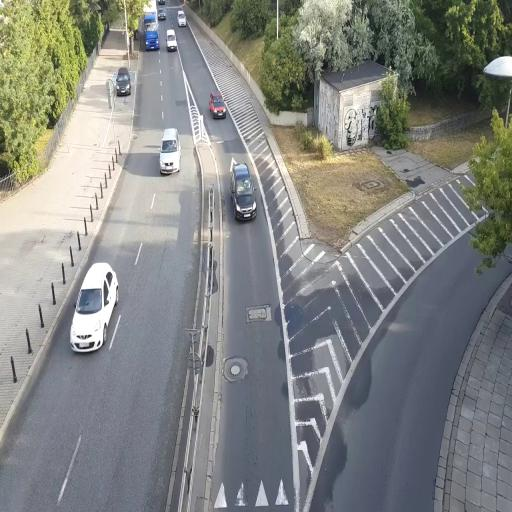vehicle: (70, 260, 119, 354), (231, 161, 257, 222), (160, 127, 181, 174), (145, 15, 159, 50), (208, 91, 226, 118), (114, 68, 131, 96), (165, 29, 178, 51), (177, 10, 186, 26)
